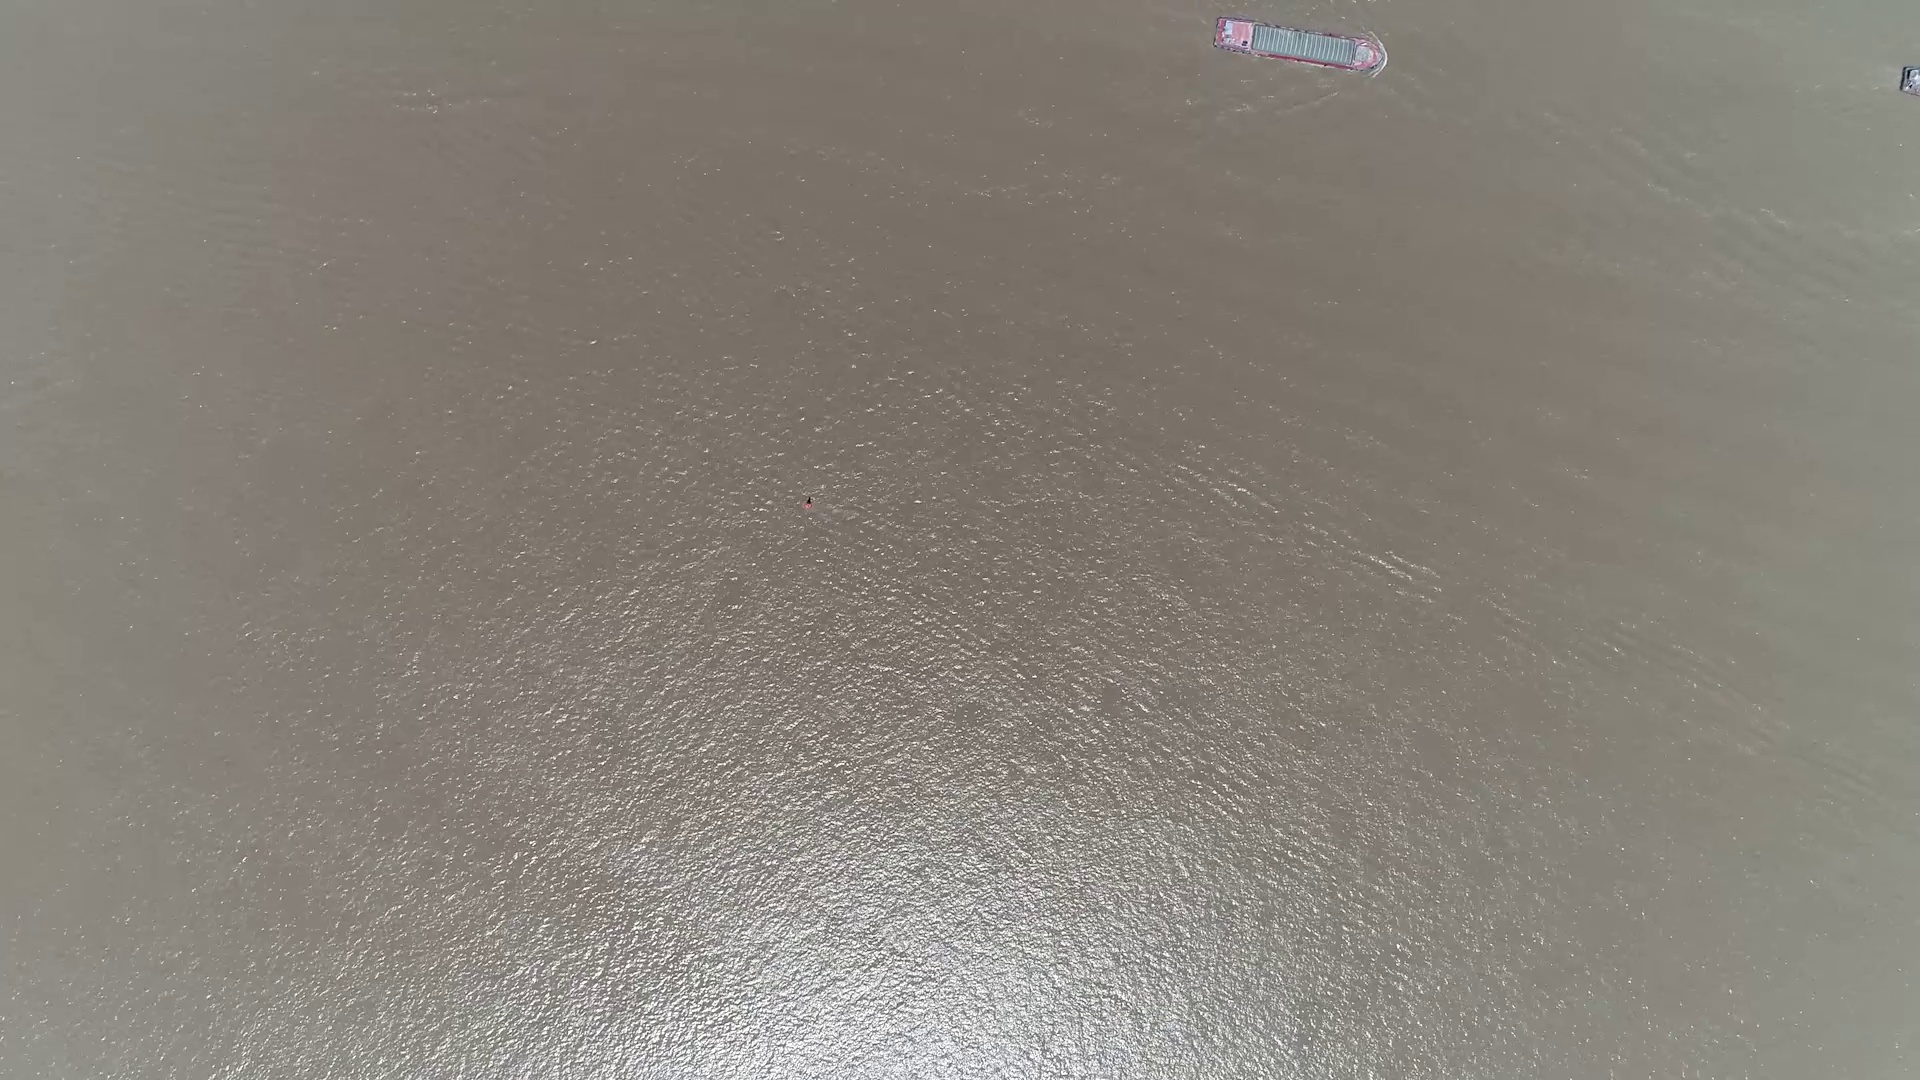ship: (1212, 18, 1383, 73)
